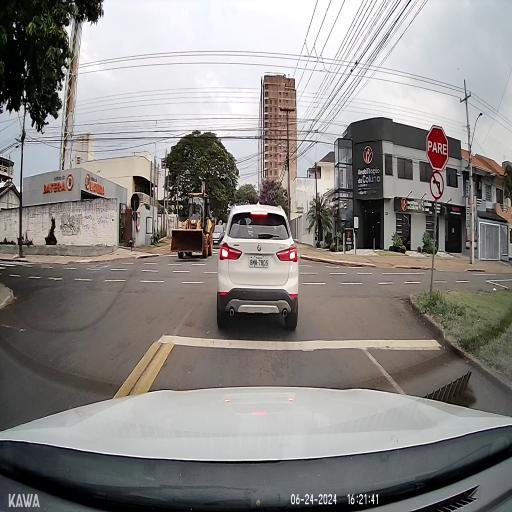R-1: (426, 124, 448, 172)
R-24a: (430, 172, 444, 199)
